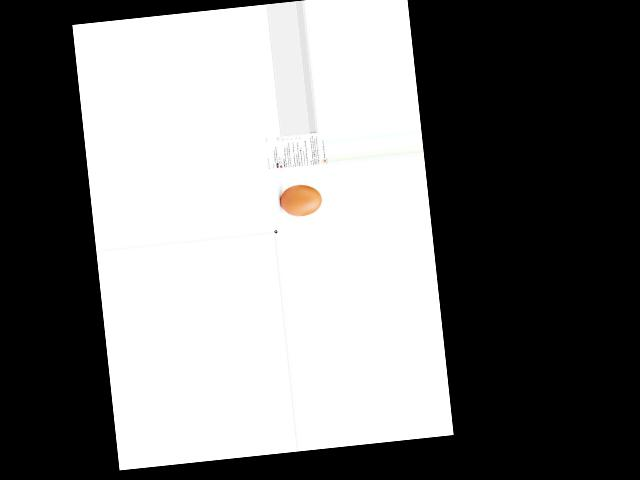egg: (278, 182, 322, 217)
